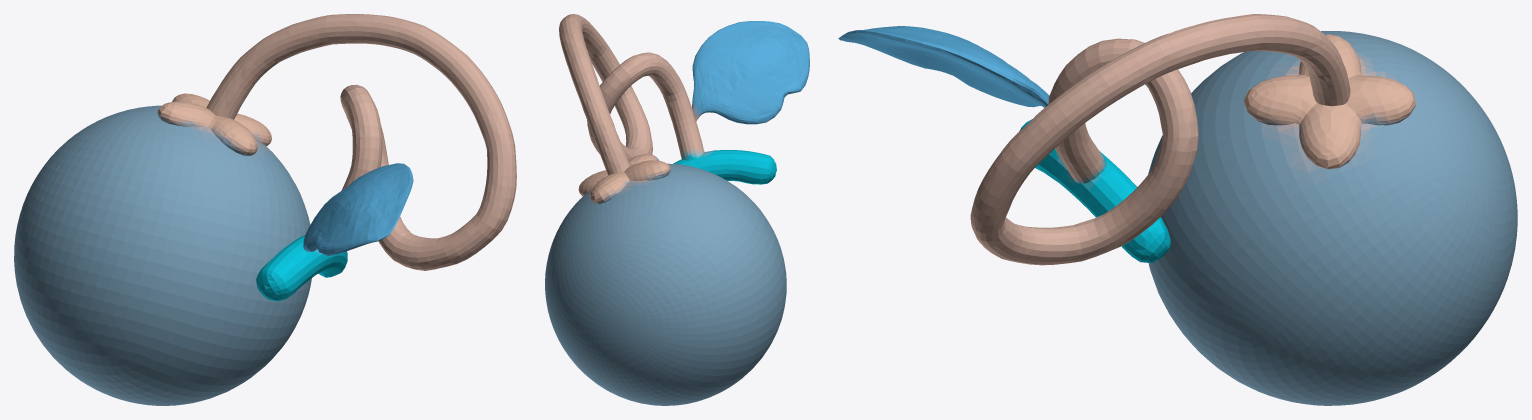
3 views of the same model, side by side, from view 1: azimuth 30°, elevation 25°; view 2: azimuth 150°, elevation 25°; view 3: azimuth 270°, elevation 25° (orthographic). The views are drawn at different scales.
Parts seen in each view (by area): view 1: world; view 2: world; view 3: world.
Boxes of the visible parts, box(x1,y1,x2,y2) form: world: box(14, 14, 516, 405); world: box(545, 14, 809, 405); world: box(838, 14, 1517, 405).
Size of the model in its own units: 0.7546 by 0.7559 by 1.
